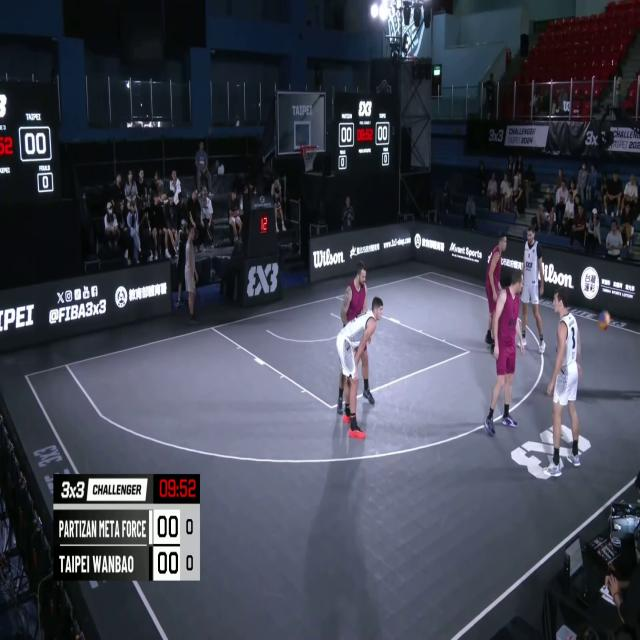ball: (597, 307, 612, 334)
hoop: (302, 142, 318, 175)
player: (541, 284, 584, 477), (487, 270, 527, 437), (338, 299, 383, 438), (335, 261, 373, 420), (521, 224, 547, 353), (485, 230, 505, 357)
